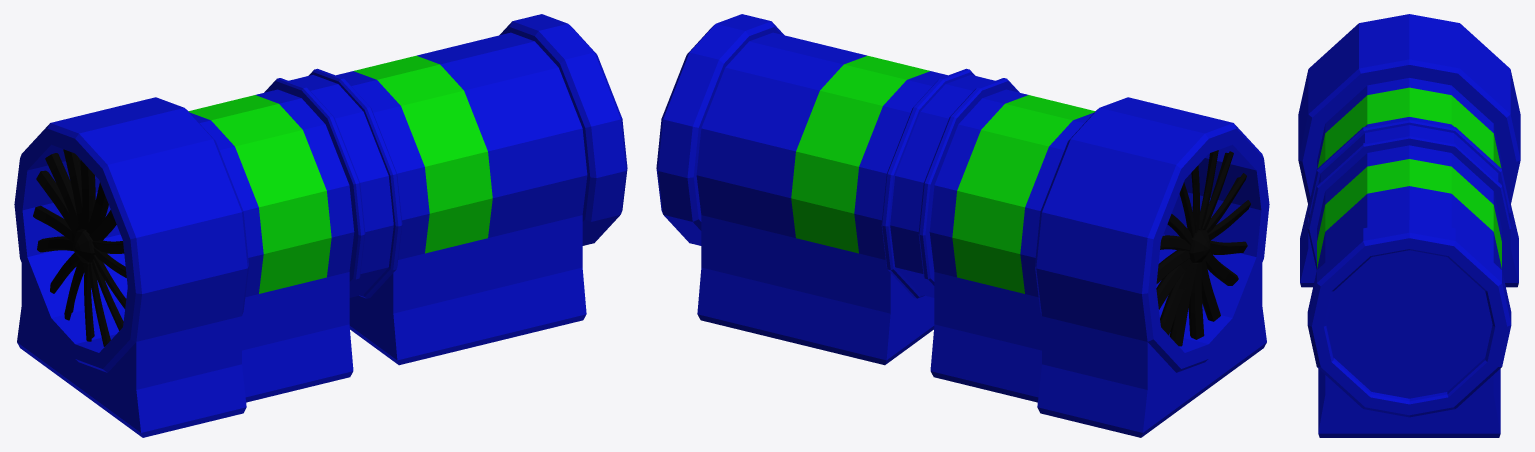
File: Turbine.fbx
3 renders of one model, left to right at view 1: azimuth 30°, elevation 25°; view 2: azimuth 150°, elevation 25°; view 3: azimuth 270°, elevation 25°, orthographic. The views are drawn at different scales.
Visible parts, largest first — view 1: turbine_fan_poly1; view 2: turbine_fan_poly1; view 3: turbine_fan_poly1.
Part boxes in pixels (<box>): turbine_fan_poly1: <box>14,14,627,437</box>; turbine_fan_poly1: <box>656,14,1269,437</box>; turbine_fan_poly1: <box>1298,14,1520,437</box>.
Size of the model in its own units: 601 by 303 by 264.
